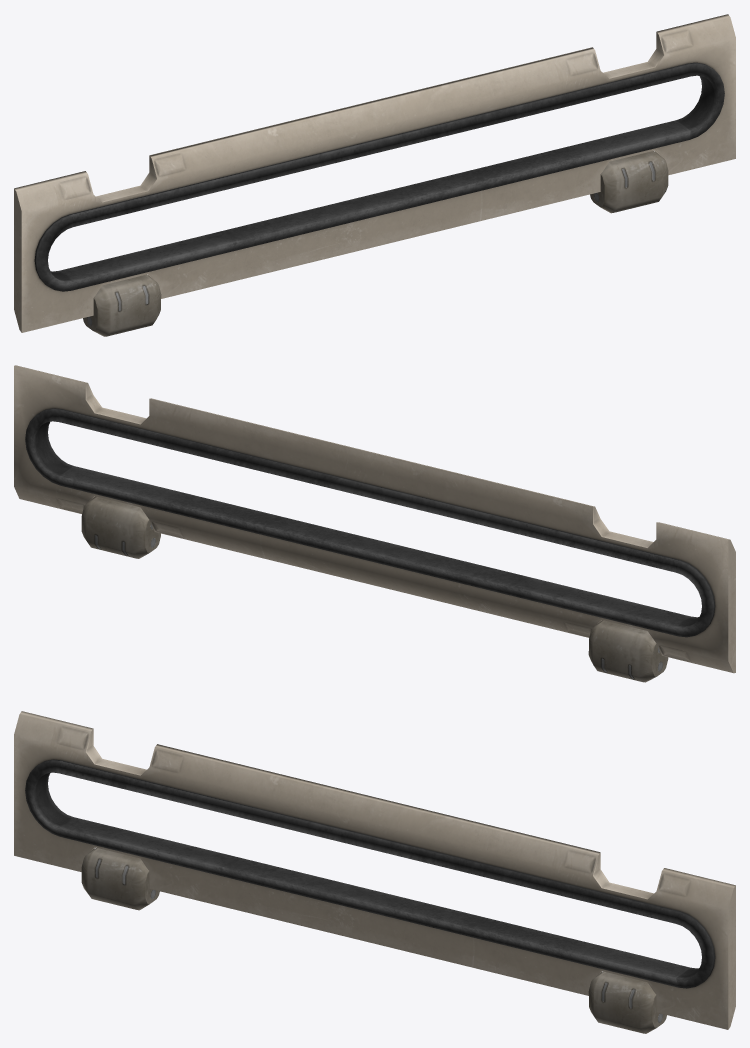
Rendered from ShutterSlatHinged.fbx.
The picture shows the model from 3 angles, top to bottom: view 1: azimuth 30°, elevation 25°; view 2: azimuth 150°, elevation 25°; view 3: azimuth 330°, elevation 25°; orthographic projection.
Parts seen in each view (by area): view 1: ShutterSlatHinged; view 2: ShutterSlatHinged; view 3: ShutterSlatHinged.
Part boxes in pixels (x1=…): ShutterSlatHinged: x1=14, y1=14, x2=735, y2=336; ShutterSlatHinged: x1=14, y1=365, x2=735, y2=682; ShutterSlatHinged: x1=14, y1=711, x2=735, y2=1033.
Size of the model in its own units: 438 by 94.72 by 24.46.
